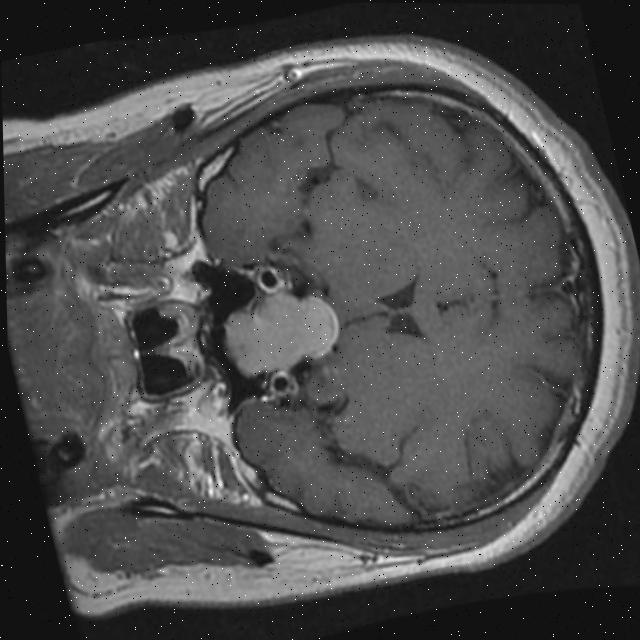Pituitary: (215, 278, 347, 382)
